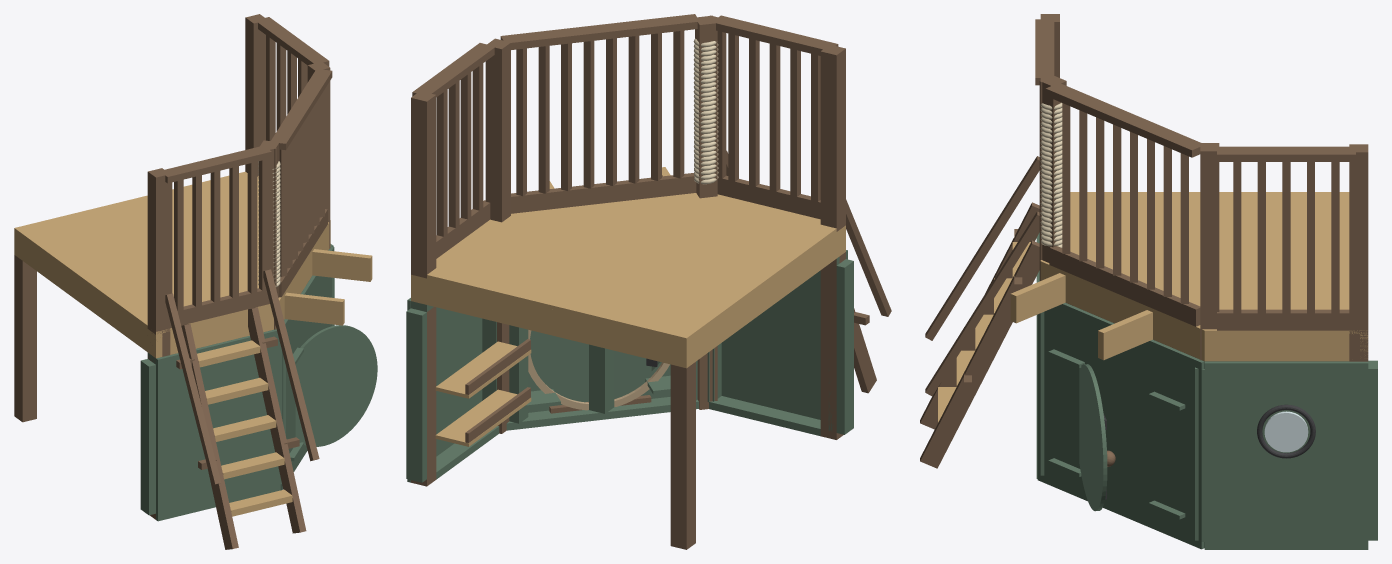
The model's file is playroom_build_mobile.glb.
3 renders of one model, left to right at view 1: azimuth 30°, elevation 25°; view 2: azimuth 150°, elevation 25°; view 3: azimuth 270°, elevation 25°, orthographic. The views are drawn at different scales.
Visible parts, largest first — view 1: LoftDeck, Skin D-E, Round hobbit door slab, Post E, Post A, Ledger W (west wall), Stringer L, Post B, D-E stud 2, Skin C-D, Stringer R, Gate hinge stile (+35 smaller); view 2: LoftDeck, Skin D-E, Post E, Ledger N (north wall), Post B, Post C, Skin C-D, Post A, Ledger W (west wall), Skin B-C, C-D toe board, B-C stud 1 (+39 smaller); view 3: Skin B-C, Skin C-D, LoftDeck, Stringer L, Post B, Rim B-C, Post C, Rim C-D, Round hobbit door slab, C-D toe board, C-D top rail, Loft post D rope wrap (+28 smaller).
Part boxes in pixels (x1,y1,x2,y2): LoftDeck: [14, 171, 330, 334]; Skin D-E: [156, 329, 280, 521]; Round hobbit door slab: [295, 325, 377, 446]; Post E: [147, 168, 170, 519]; Post A: [14, 255, 36, 422]; Ledger W (west wall): [18, 234, 162, 358]; Stringer L: [248, 307, 306, 533]; Post B: [245, 14, 267, 176]; D-E stud 2: [140, 359, 155, 515]; Skin C-D: [280, 246, 334, 490]; Stringer R: [181, 324, 238, 549]; Gate hinge stile: [259, 147, 276, 304]; LoftDeck: [427, 193, 836, 341]; Skin D-E: [721, 250, 847, 419]; Post E: [820, 44, 845, 439]; Ledger N (north wall): [411, 274, 690, 368]; Post B: [411, 91, 436, 486]; Post C: [485, 38, 510, 433]; Skin C-D: [528, 330, 670, 412]; Post A: [670, 362, 695, 549]; Ledger W (west wall): [690, 225, 845, 364]; Skin B-C: [407, 298, 482, 482]; C-D toe board: [511, 173, 696, 213]; B-C stud 1: [406, 308, 426, 482]; Skin B-C: [1204, 361, 1368, 549]; Skin C-D: [1037, 303, 1204, 549]; LoftDeck: [1040, 192, 1368, 334]; Stringer L: [920, 240, 1039, 468]; Post B: [1349, 144, 1368, 361]; Rim B-C: [1204, 334, 1349, 361]; Post C: [1200, 143, 1219, 360]; Rim C-D: [1040, 265, 1204, 361]; Round hobbit door slab: [1079, 364, 1107, 511]; C-D toe board: [1049, 246, 1200, 326]; C-D top rail: [1045, 83, 1200, 157]; Loft post D rope wrap: [1040, 102, 1062, 247].
Size of the model in its own units: 1.6 by 2.05 by 2.13.
